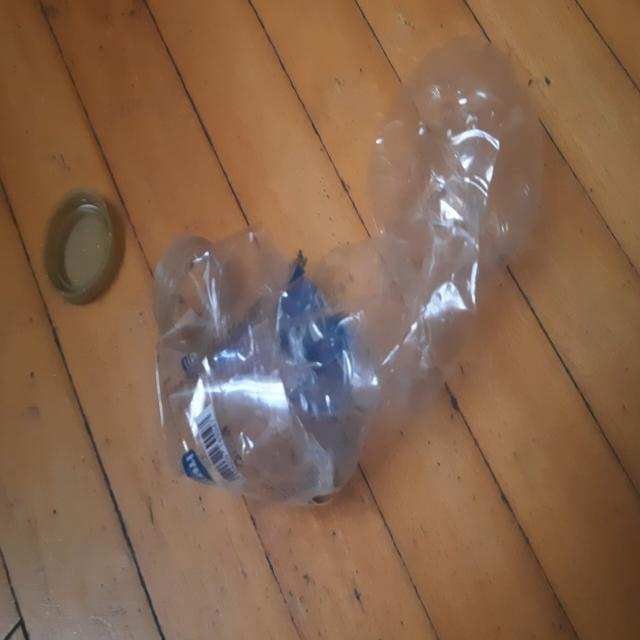Plastic: (153, 33, 543, 506)
